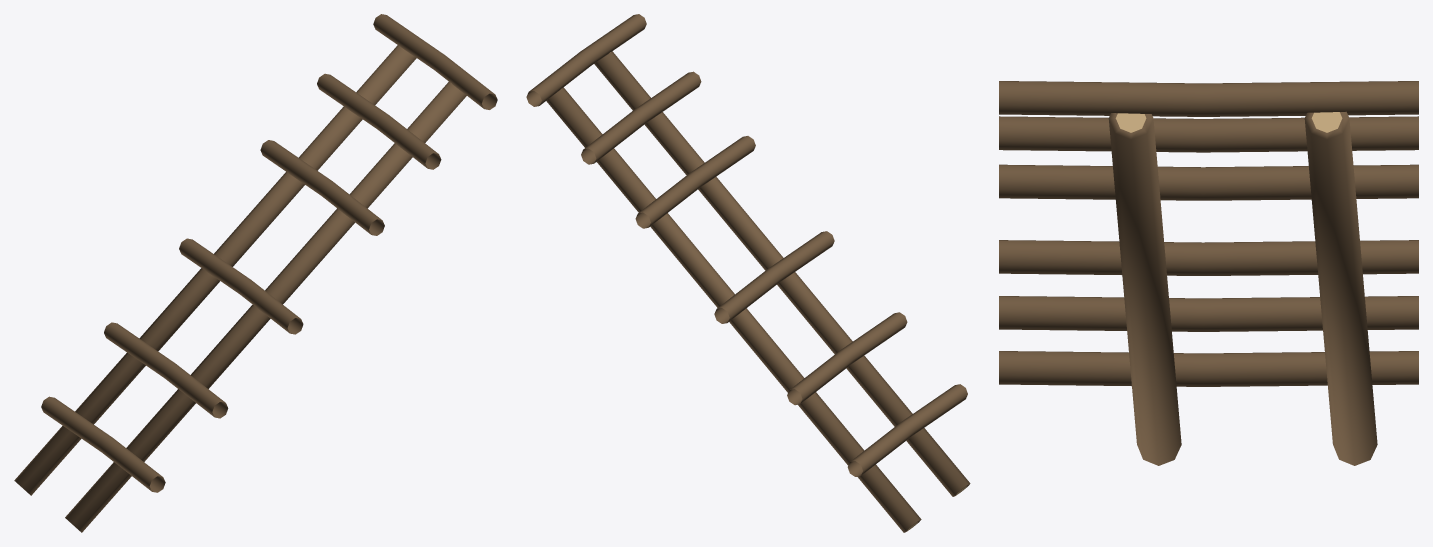
Rendered from rpgpp_ag_roof_support_01_9x4x3_roof_01b_half_a.fbx.
3 views of the same model, side by side, from view 1: azimuth 30°, elevation 25°; view 2: azimuth 150°, elevation 25°; view 3: azimuth 270°, elevation 25° (orthographic). The views are drawn at different scales.
Visible parts, largest first — view 1: rpgpp_ag_roof_support_01_9x4x3_roof_01b_half_a; view 2: rpgpp_ag_roof_support_01_9x4x3_roof_01b_half_a; view 3: rpgpp_ag_roof_support_01_9x4x3_roof_01b_half_a.
Part boxes in pixels (box(x1,y1,x2,y2)): rpgpp_ag_roof_support_01_9x4x3_roof_01b_half_a: box(14, 14, 497, 532); rpgpp_ag_roof_support_01_9x4x3_roof_01b_half_a: box(526, 14, 970, 532); rpgpp_ag_roof_support_01_9x4x3_roof_01b_half_a: box(999, 81, 1418, 465).
Bounding box in the file's own units: 6.35 × 5.77 × 3.
